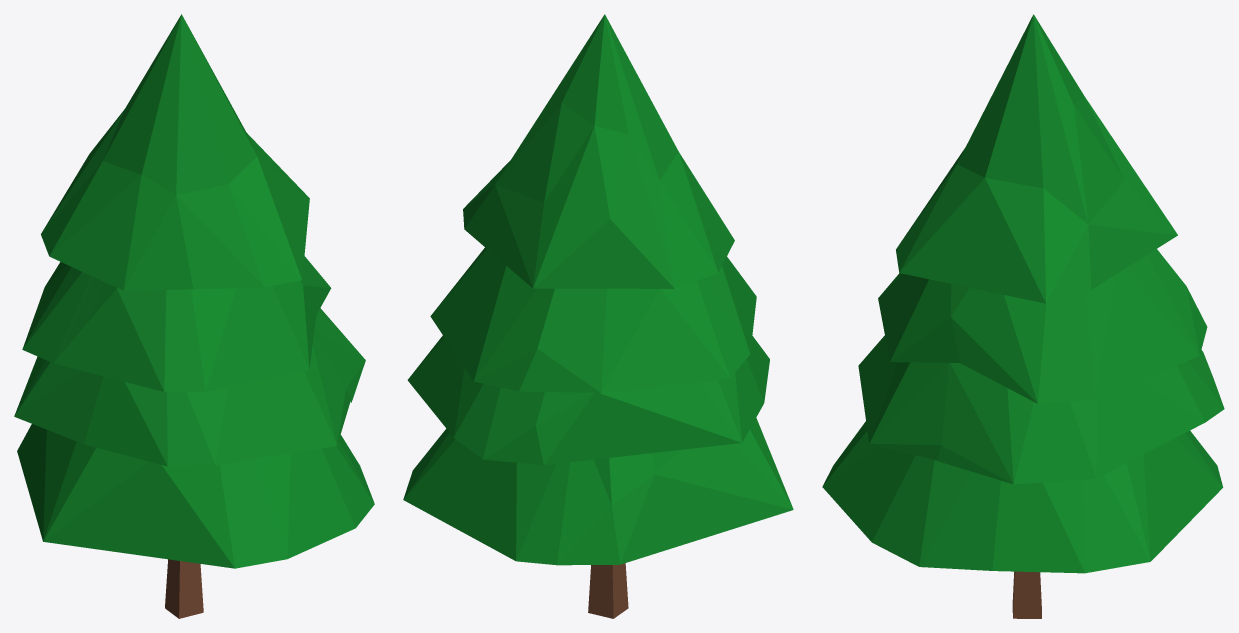
File: Pinetree1.glb
3 renders of one model, left to right at view 1: azimuth 30°, elevation 25°; view 2: azimuth 150°, elevation 25°; view 3: azimuth 270°, elevation 25°, orthographic.
Visible parts, largest first — view 1: Pine tree 1; view 2: Pine tree 1; view 3: Pine tree 1.
Boxes of the visible parts, bbox=[...] form: Pine tree 1: bbox=[14, 14, 374, 618]; Pine tree 1: bbox=[403, 14, 793, 618]; Pine tree 1: bbox=[822, 14, 1224, 618].
Bounding box in the file's own units: 71.84 × 121 × 73.59.
